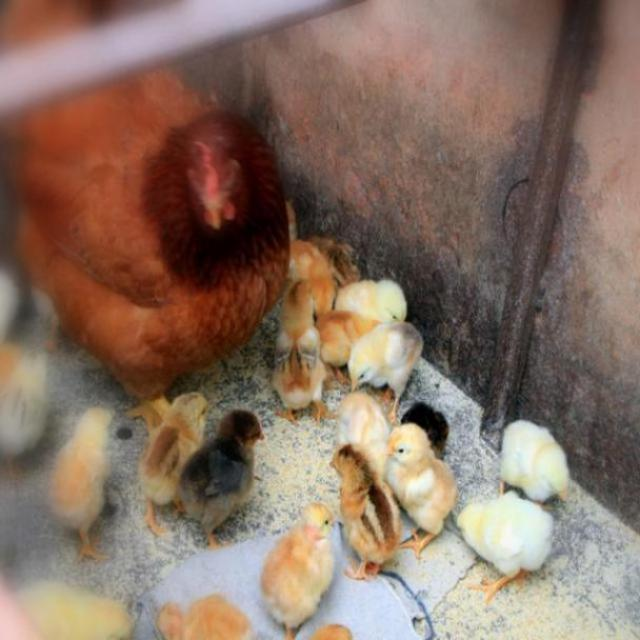Chicken: (28, 91, 299, 432)
